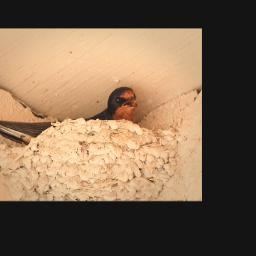Swallow: (0, 85, 139, 152)
